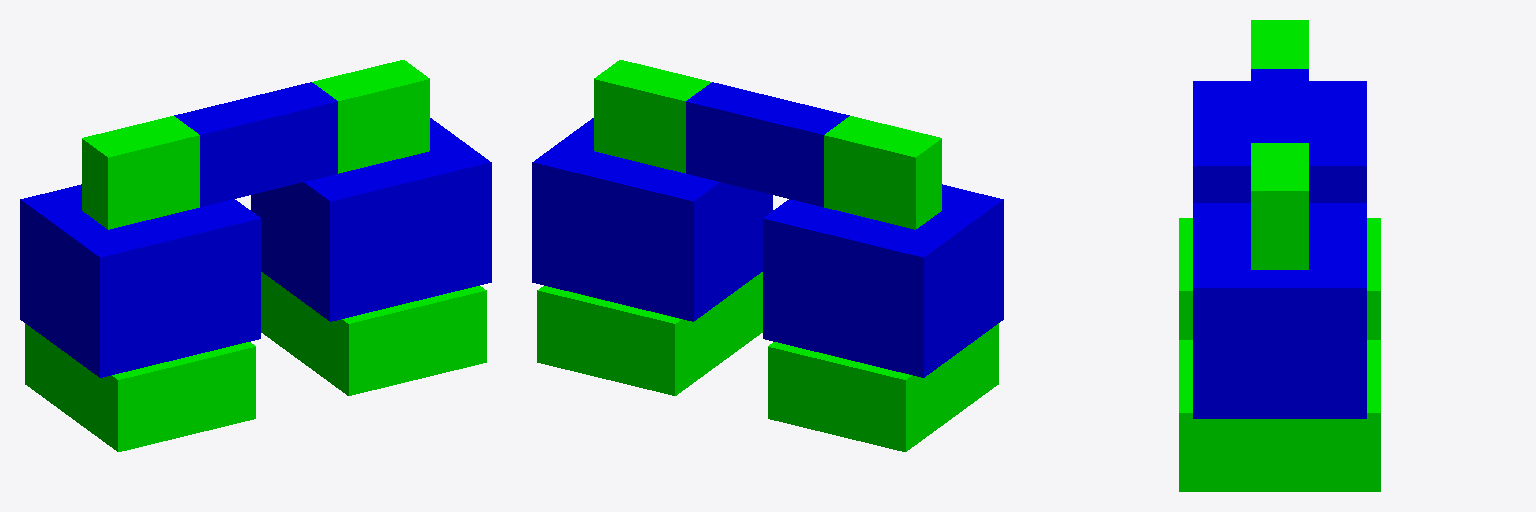
robot.urdf — robot:
<robot name = "robot">
    <link name="root">
        <inertial>
            <origin xyz="0.0 0.0 1.5" rpy="0 0 0"/>
            <mass value="1" />
            <inertia ixx="100" ixy="0" ixz="0" iyy="100" iyz="0" izz="100" />
        </inertial>
        <visual>
            <origin xyz="0.0 0.0 1.5" rpy="0 0 0"/>
            <geometry>
                <box size="0 0 0.0001" />
            </geometry>
            <material name="Green">
                <color rgba="0 1.0 0.0 1.0"/>
            </material>
        </visual>
        <collision>
            <origin xyz="0.0 0.0 1.5" rpy="0 0 0"/>
            <geometry>
                <box size="0 0 0.0001" />
            </geometry>
        </collision>
    </link>
    <joint name="root_000" type="revolute">
       <parent link="root"/>
       <child  link="000"/>
       <origin rpy="0 0 0" xyz="0.0 0.0 1.5" />
     <axis xyz="1 0 0"/>
       <limit effort="0.0" lower="-3.14159" upper="3.14159" velocity="0.0"/>
    </joint>
    <link name="000">
        <inertial>
            <origin xyz="0.0 0.1 0.0" rpy="0 0 0"/>
            <mass value="1" />
            <inertia ixx="100" ixy="0" ixz="0" iyy="100" iyz="0" izz="100" />
        </inertial>
        <visual>
            <origin xyz="0.0 0.1 0.0" rpy="0 0 0"/>
            <geometry>
                <box size="0.6 0.2 0.3" />
            </geometry>
            <material name="Blue">
                <color rgba="0 0.0 1.0 1.0"/>
            </material>
        </visual>
        <collision>
            <origin xyz="0.0 0.1 0.0" rpy="0 0 0"/>
            <geometry>
                <box size="0.6 0.2 0.3" />
            </geometry>
        </collision>
    </link>
    <joint name="000_000-100" type="revolute">
       <parent link="000"/>
       <child  link="000-100"/>
       <origin rpy="0 0 0" xyz="0.3 0.1 -0.0" />
     <axis xyz="1 0 0"/>
       <limit effort="0.0" lower="-3.14159" upper="3.14159" velocity="0.0"/>
    </joint>
    <link name="000-100">
        <inertial>
            <origin xyz="0.2 0.0 -0.0" rpy="0 0 0"/>
            <mass value="1" />
            <inertia ixx="100" ixy="0" ixz="0" iyy="100" iyz="0" izz="100" />
        </inertial>
        <visual>
            <origin xyz="0.2 0.0 -0.0" rpy="0 0 0"/>
            <geometry>
                <box size="0.4 0.2 0.3" />
            </geometry>
            <material name="Green">
                <color rgba="0 1.0 0.0 1.0"/>
            </material>
        </visual>
        <collision>
            <origin xyz="0.2 0.0 -0.0" rpy="0 0 0"/>
            <geometry>
                <box size="0.4 0.2 0.3" />
            </geometry>
        </collision>
    </link>
    <joint name="000-100_000-100-200" type="revolute">
       <parent link="000-100"/>
       <child  link="000-100-200"/>
       <origin rpy="0 0 0" xyz="0.2 0.0 -0.15" />
     <axis xyz="0 0 1"/>
       <limit effort="0.0" lower="-3.14159" upper="3.14159" velocity="0.0"/>
    </joint>
    <link name="000-100-200">
        <inertial>
            <origin xyz="0.0 0.0 -0.25" rpy="0 0 0"/>
            <mass value="1" />
            <inertia ixx="100" ixy="0" ixz="0" iyy="100" iyz="0" izz="100" />
        </inertial>
        <visual>
            <origin xyz="0.0 0.0 -0.25" rpy="0 0 0"/>
            <geometry>
                <box size="0.7 0.6 0.5" />
            </geometry>
            <material name="Blue">
                <color rgba="0 0.0 1.0 1.0"/>
            </material>
        </visual>
        <collision>
            <origin xyz="0.0 0.0 -0.25" rpy="0 0 0"/>
            <geometry>
                <box size="0.7 0.6 0.5" />
            </geometry>
        </collision>
    </link>
    <joint name="000-100-200_000-100-200-300" type="revolute">
       <parent link="000-100-200"/>
       <child  link="000-100-200-300"/>
       <origin rpy="0 0 0" xyz="0.0 0.0 -0.5" />
     <axis xyz="0 0 1"/>
       <limit effort="0.0" lower="-3.14159" upper="3.14159" velocity="0.0"/>
    </joint>
    <link name="000-100-200-300">
        <inertial>
            <origin xyz="0.0 0.0 -0.15" rpy="0 0 0"/>
            <mass value="1" />
            <inertia ixx="100" ixy="0" ixz="0" iyy="100" iyz="0" izz="100" />
        </inertial>
        <visual>
            <origin xyz="0.0 0.0 -0.15" rpy="0 0 0"/>
            <geometry>
                <box size="0.6 0.7 0.3" />
            </geometry>
            <material name="Green">
                <color rgba="0 1.0 0.0 1.0"/>
            </material>
        </visual>
        <collision>
            <origin xyz="0.0 0.0 -0.15" rpy="0 0 0"/>
            <geometry>
                <box size="0.6 0.7 0.3" />
            </geometry>
        </collision>
    </link>
    <joint name="000_000-101" type="revolute">
       <parent link="000"/>
       <child  link="000-101"/>
       <origin rpy="0 0 0" xyz="-0.3 0.1 -0.0" />
     <axis xyz="1 0 0"/>
       <limit effort="0.0" lower="-3.14159" upper="3.14159" velocity="0.0"/>
    </joint>
    <link name="000-101">
        <inertial>
            <origin xyz="-0.2 0.0 -0.0" rpy="0 0 0"/>
            <mass value="1" />
            <inertia ixx="100" ixy="0" ixz="0" iyy="100" iyz="0" izz="100" />
        </inertial>
        <visual>
            <origin xyz="-0.2 0.0 -0.0" rpy="0 0 0"/>
            <geometry>
                <box size="0.4 0.2 0.3" />
            </geometry>
            <material name="Green">
                <color rgba="0 1.0 0.0 1.0"/>
            </material>
        </visual>
        <collision>
            <origin xyz="-0.2 0.0 -0.0" rpy="0 0 0"/>
            <geometry>
                <box size="0.4 0.2 0.3" />
            </geometry>
        </collision>
    </link>
    <joint name="000-101_000-101-200" type="revolute">
       <parent link="000-101"/>
       <child  link="000-101-200"/>
       <origin rpy="0 0 0" xyz="-0.2 0.0 -0.15" />
     <axis xyz="0 0 1"/>
       <limit effort="0.0" lower="-3.14159" upper="3.14159" velocity="0.0"/>
    </joint>
    <link name="000-101-200">
        <inertial>
            <origin xyz="-0.0 0.0 -0.25" rpy="0 0 0"/>
            <mass value="1" />
            <inertia ixx="100" ixy="0" ixz="0" iyy="100" iyz="0" izz="100" />
        </inertial>
        <visual>
            <origin xyz="-0.0 0.0 -0.25" rpy="0 0 0"/>
            <geometry>
                <box size="0.7 0.6 0.5" />
            </geometry>
            <material name="Blue">
                <color rgba="0 0.0 1.0 1.0"/>
            </material>
        </visual>
        <collision>
            <origin xyz="-0.0 0.0 -0.25" rpy="0 0 0"/>
            <geometry>
                <box size="0.7 0.6 0.5" />
            </geometry>
        </collision>
    </link>
    <joint name="000-101-200_000-101-200-300" type="revolute">
       <parent link="000-101-200"/>
       <child  link="000-101-200-300"/>
       <origin rpy="0 0 0" xyz="-0.0 0.0 -0.5" />
     <axis xyz="0 0 1"/>
       <limit effort="0.0" lower="-3.14159" upper="3.14159" velocity="0.0"/>
    </joint>
    <link name="000-101-200-300">
        <inertial>
            <origin xyz="-0.0 0.0 -0.15" rpy="0 0 0"/>
            <mass value="1" />
            <inertia ixx="100" ixy="0" ixz="0" iyy="100" iyz="0" izz="100" />
        </inertial>
        <visual>
            <origin xyz="-0.0 0.0 -0.15" rpy="0 0 0"/>
            <geometry>
                <box size="0.6 0.7 0.3" />
            </geometry>
            <material name="Green">
                <color rgba="0 1.0 0.0 1.0"/>
            </material>
        </visual>
        <collision>
            <origin xyz="-0.0 0.0 -0.15" rpy="0 0 0"/>
            <geometry>
                <box size="0.6 0.7 0.3" />
            </geometry>
        </collision>
    </link>
</robot>

--- What the picture shows (computed from the rendered views, not written in the file) ---
The picture shows the robot from 3 angles, left to right: view 1: azimuth 30°, elevation 25°; view 2: azimuth 150°, elevation 25°; view 3: azimuth 270°, elevation 25°; orthographic projection.
Robot: robot — 8 links, 7 joints (7 revolute); root link root; default pose: all joints at 0.
Links seen in each view (by area): view 1: [phone redacted] (×4), 000, 000-101, 000-100; view 2: [phone redacted] (×4), 000, 000-101, 000-100; view 3: [phone redacted] (×4), 000-100, 000, 000-101.
Link boxes in pixels (x1=…): [phone redacted] (×4): x1=20, y1=118, x2=491, y2=451; 000: x1=174, y1=82, x2=337, y2=206; 000-101: x1=82, y1=116, x2=199, y2=229; 000-100: x1=312, y1=60, x2=429, y2=173; [phone redacted] (×4): x1=532, y1=118, x2=1003, y2=451; 000: x1=686, y1=82, x2=849, y2=206; 000-101: x1=824, y1=116, x2=941, y2=229; 000-100: x1=594, y1=60, x2=711, y2=173; [phone redacted] (×4): x1=1179, y1=81, x2=1380, y2=491; 000-100: x1=1251, y1=143, x2=1308, y2=269; 000: x1=1251, y1=69, x2=1308, y2=142; 000-101: x1=1251, y1=20, x2=1308, y2=68.
Bounding box of the posed robot: 1.7 × 0.7 × 1.1 m (x, y, z).
Geometry: primitives only (box / cylinder / sphere), no mesh files.
